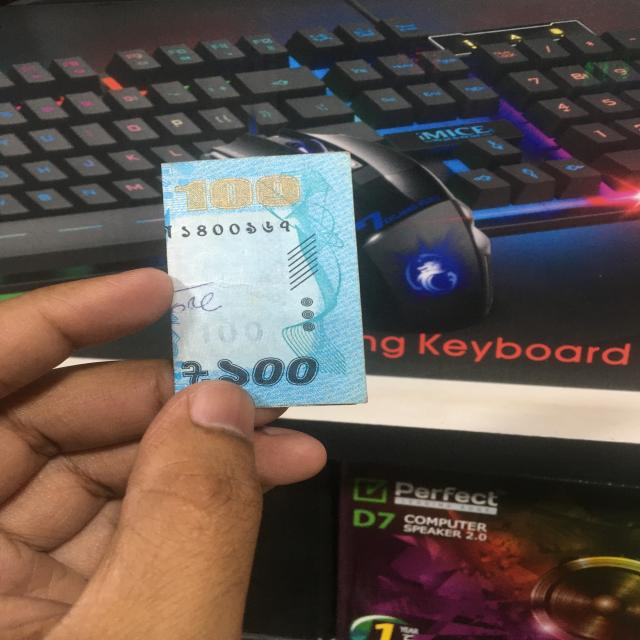Taka: (152, 158, 372, 414)
